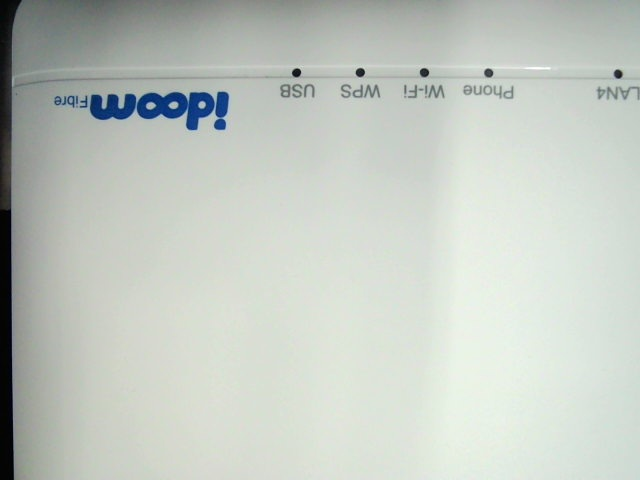BB_idoom: (43, 74, 245, 149)
